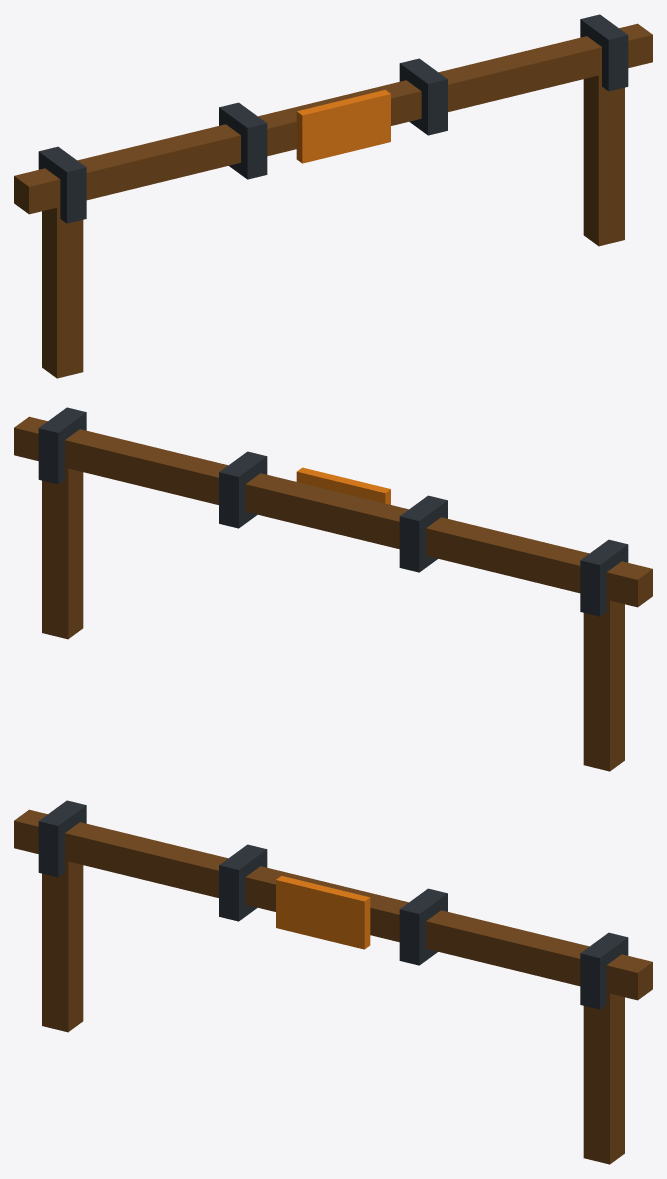
File: nf_pipe_run.obj
The picture shows the model from 3 angles, top to bottom: view 1: azimuth 30°, elevation 25°; view 2: azimuth 150°, elevation 25°; view 3: azimuth 330°, elevation 25°; orthographic projection.
Visible parts, largest first — view 1: main_pipe, right_drop, left_drop, signal_window, clamp_-0.55, clamp_0.55, clamp_-1.65, clamp_1.65; view 2: main_pipe, right_drop, left_drop, clamp_-0.55, clamp_0.55, clamp_-1.65, clamp_1.65, signal_window; view 3: main_pipe, left_drop, right_drop, signal_window, clamp_0.55, clamp_-0.55, clamp_1.65, clamp_-1.65.
Boxes of the visible parts, <box> form: main_pipe: <box>14,23,652,214</box>; right_drop: <box>583,48,624,246</box>; left_drop: <box>42,180,83,378</box>; signal_window: <box>296,89,390,163</box>; clamp_-0.55: <box>219,102,267,179</box>; clamp_0.55: <box>399,58,447,135</box>; clamp_-1.65: <box>38,146,86,223</box>; clamp_1.65: <box>580,14,628,91</box>; main_pipe: <box>14,416,652,607</box>; right_drop: <box>42,441,83,639</box>; left_drop: <box>583,574,624,771</box>; clamp_-0.55: <box>399,495,447,572</box>; clamp_0.55: <box>219,451,267,528</box>; clamp_-1.65: <box>580,539,628,616</box>; clamp_1.65: <box>38,407,86,484</box>; signal_window: <box>296,467,390,504</box>; main_pipe: <box>14,809,652,1000</box>; left_drop: <box>42,834,83,1032</box>; right_drop: <box>583,968,624,1164</box>; signal_window: <box>276,875,370,949</box>; clamp_0.55: <box>399,888,447,965</box>; clamp_-0.55: <box>219,844,267,921</box>; clamp_1.65: <box>580,932,628,1009</box>; clamp_-1.65: <box>38,800,86,877</box>.
Size of the model in its own units: 3.8 by 1.23 by 0.3.
